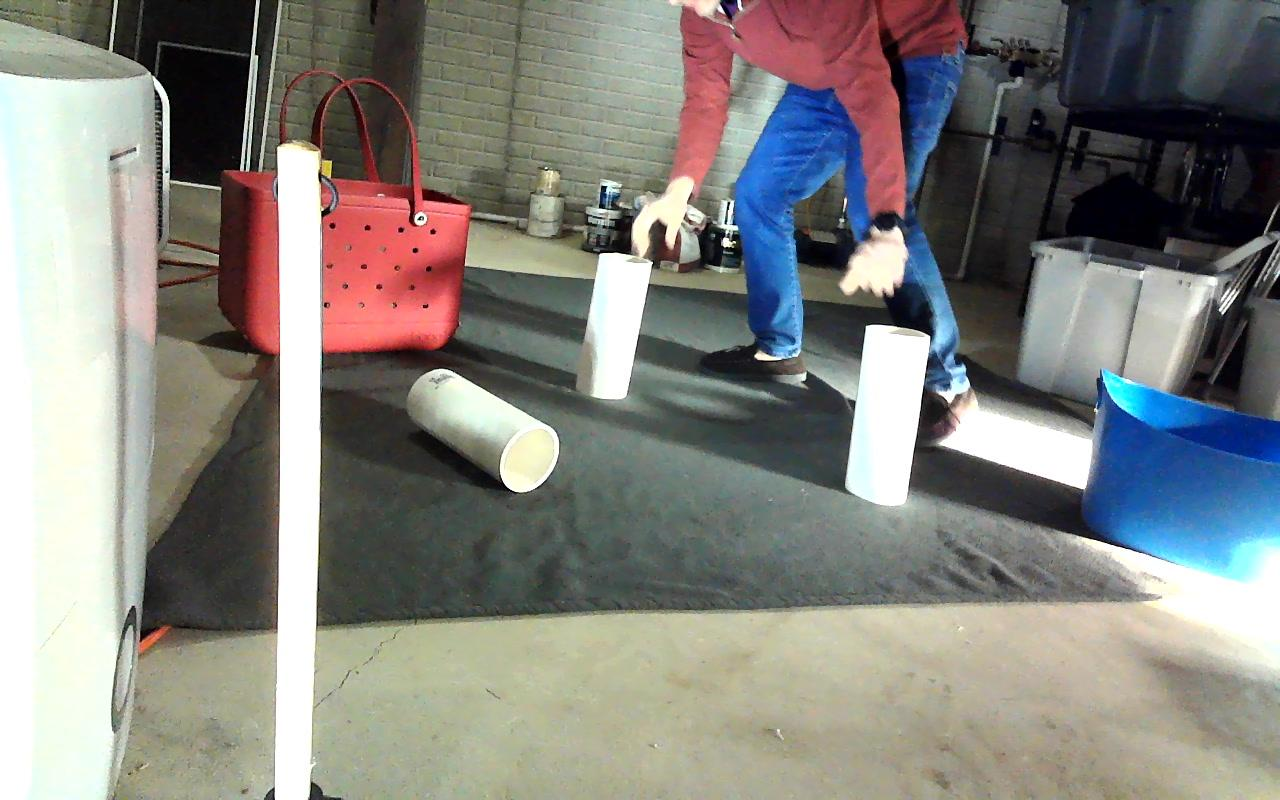coral: (406, 368, 558, 491), (845, 325, 928, 505), (586, 251, 649, 400)
